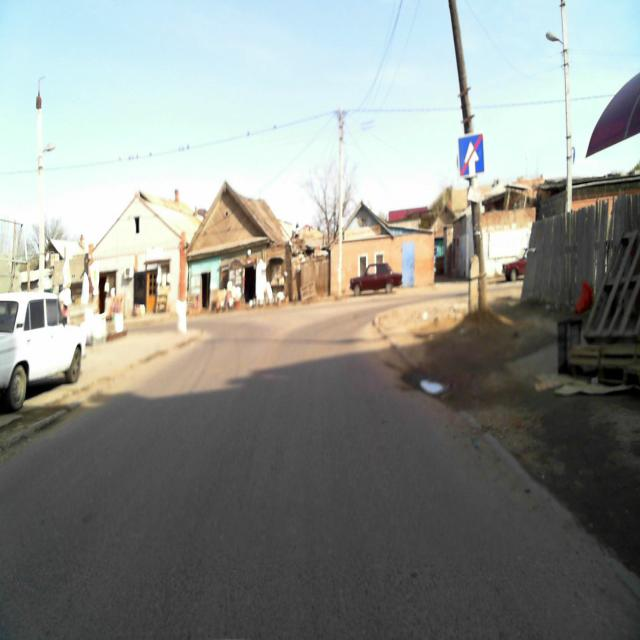road sign: (458, 134, 485, 177)
